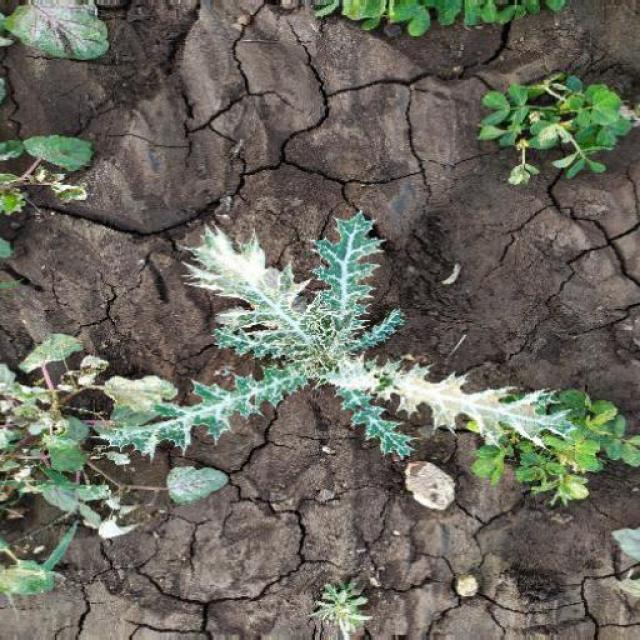weed: (1, 190, 578, 559), (447, 51, 640, 180)
